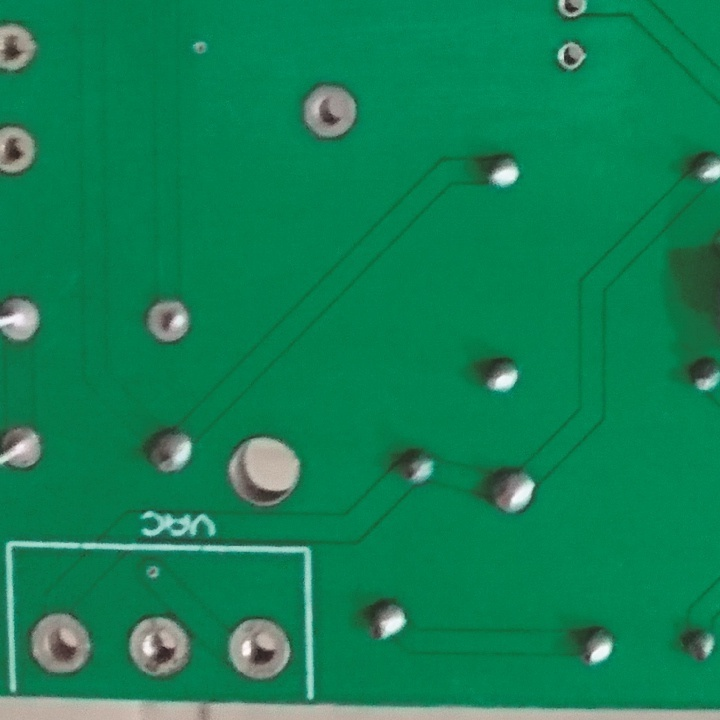F: (224, 610, 293, 683), (24, 609, 97, 677), (125, 614, 195, 680), (297, 81, 360, 142), (141, 295, 193, 345), (1, 423, 45, 474), (1, 123, 41, 178), (1, 295, 44, 346), (1, 19, 40, 75), (552, 39, 589, 75), (553, 1, 591, 26)
